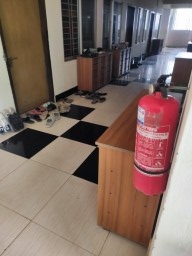fire_extinguisher: (67, 14, 147, 80)
